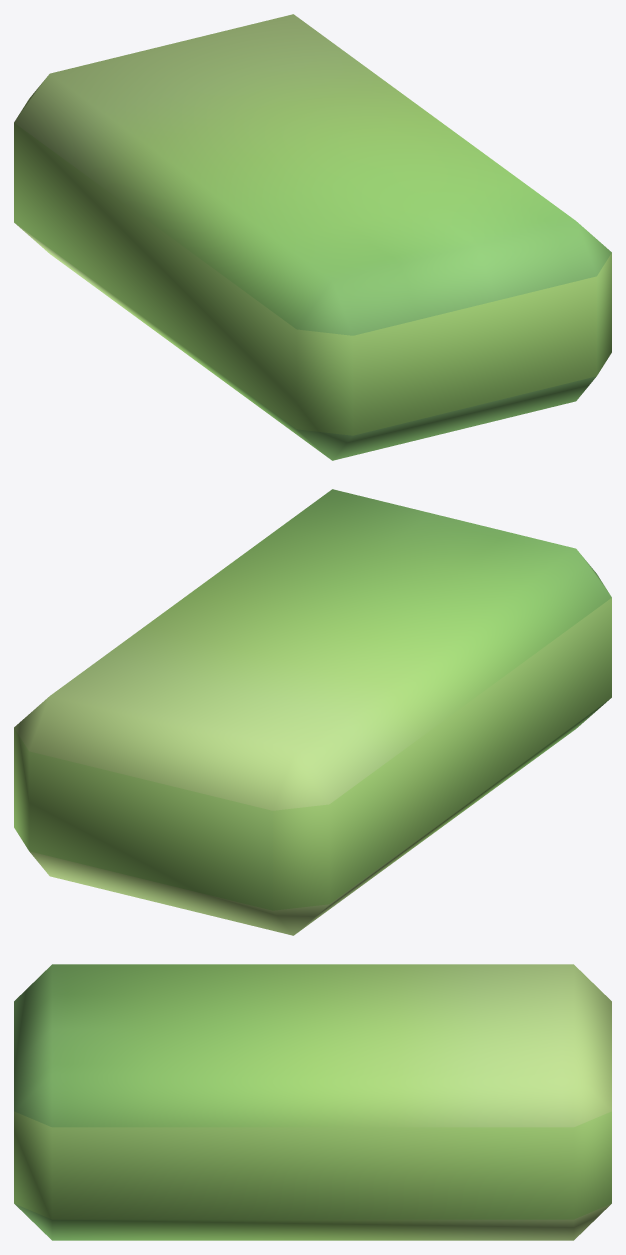
Rendered from Soap_01.glb.
3 views of the same model, one above another, from view 1: azimuth 30°, elevation 25°; view 2: azimuth 150°, elevation 25°; view 3: azimuth 270°, elevation 25° (orthographic). The views are drawn at different scales.
Visible parts, largest first — view 1: Soap_01; view 2: Soap_01; view 3: Soap_01.
Boxes of the visible parts, bbox=[...] form: Soap_01: bbox=[14, 14, 611, 460]; Soap_01: bbox=[14, 489, 611, 935]; Soap_01: bbox=[14, 964, 611, 1240].
Bounding box in the file's own units: 0.0595 × 0.0325 × 0.1058.
Materials: 1 (1 with a texture image).
